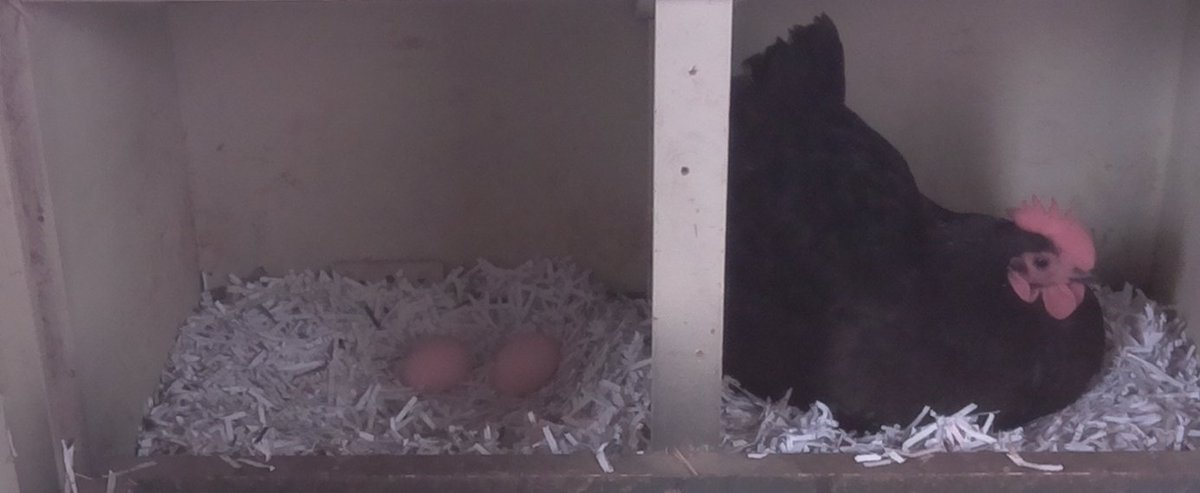egg: (483, 329, 564, 399), (398, 335, 478, 396)
hen: (732, 24, 1110, 436)
